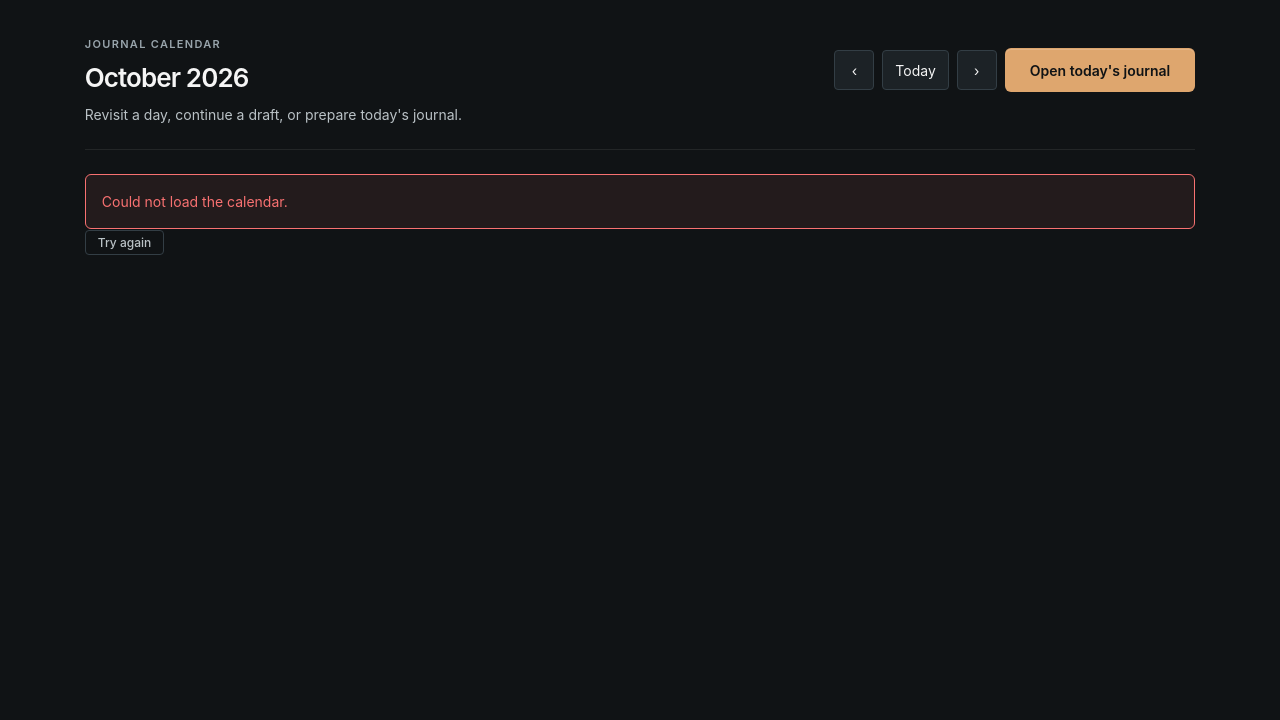
Test case: Journal calendar context › shows failed loading instead of an empty summary and retries
Expected: the message "Could not load the calendar." is shown, [85,174,1195,229]
Click the button with class "btn-chip" at (124, 243), box [85,230,164,255]
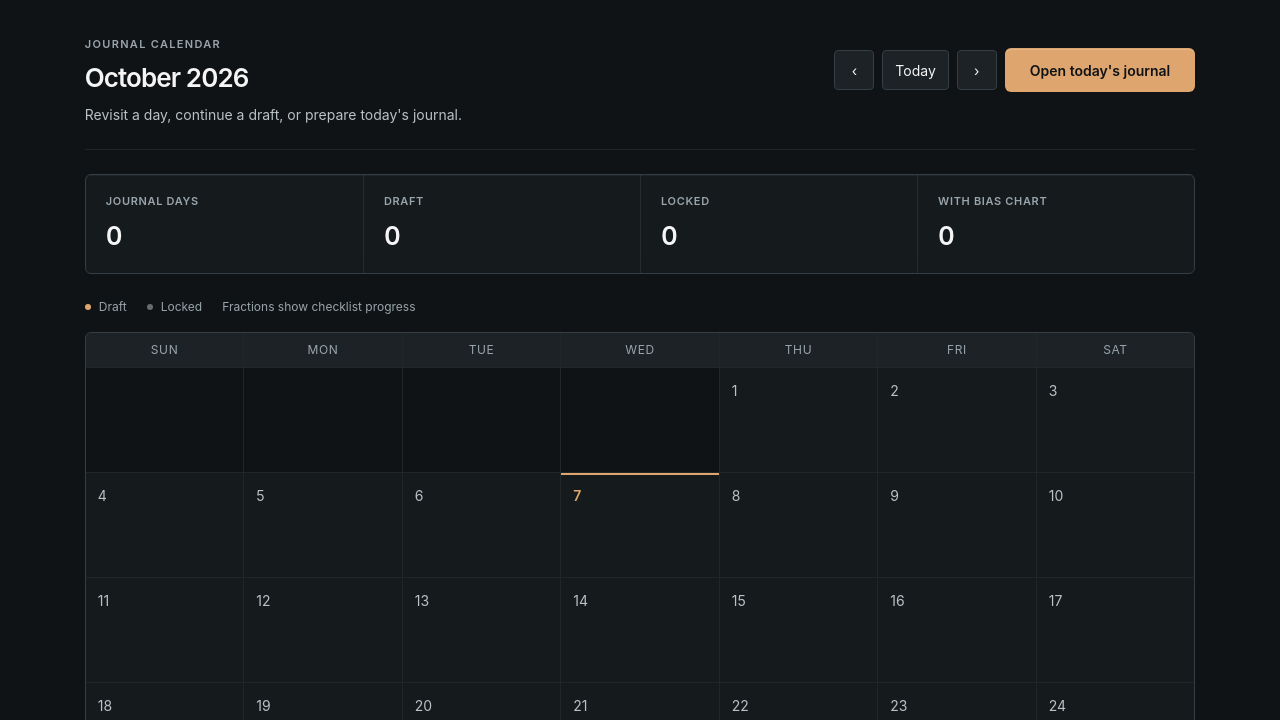
Expected: the element with class "workspace-summary" is shown, [85,174,1195,274]
